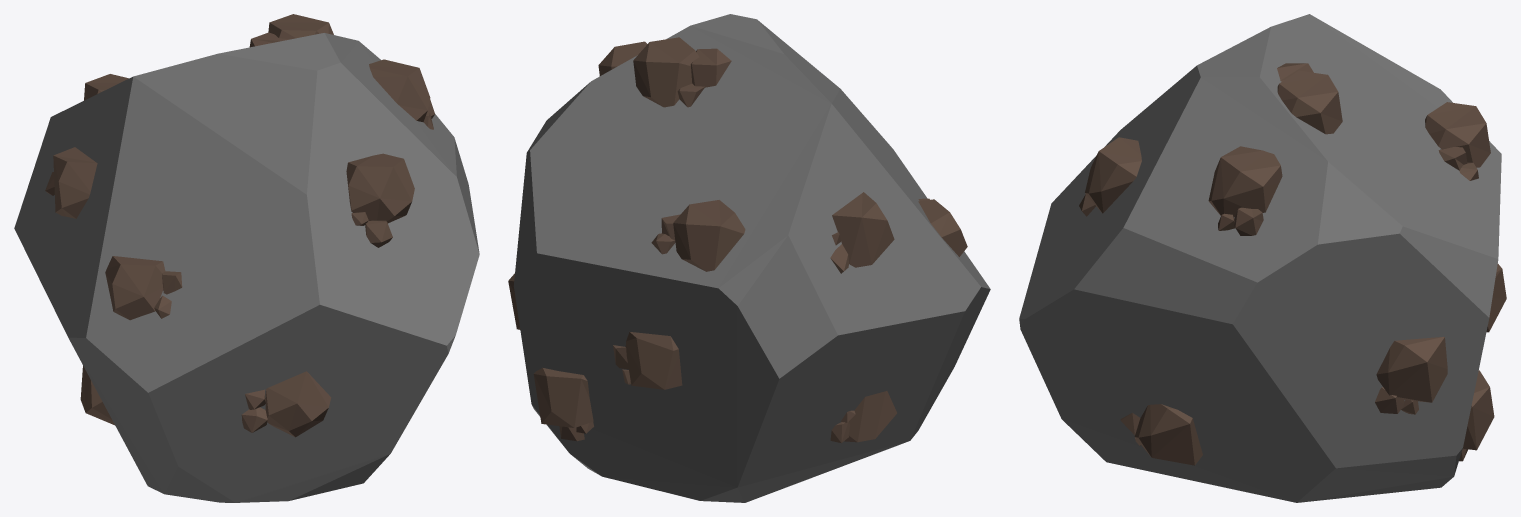
Rendered from SM_Ore_001_LOD1.fbx.
The picture shows the model from 3 angles, left to right: view 1: azimuth 30°, elevation 25°; view 2: azimuth 150°, elevation 25°; view 3: azimuth 270°, elevation 25°; orthographic projection. The views are drawn at different scales.
Visible parts, largest first — view 1: Cube.001, Cube; view 2: Cube.001, Cube; view 3: Cube.001, Cube.
Boxes of the visible parts, x1=… form: Cube.001: x1=14, y1=33, x2=479, y2=502; Cube: x1=45, y1=14, x2=434, y2=437; Cube.001: x1=513, y1=14, x2=990, y2=502; Cube: x1=508, y1=37, x2=967, y2=443; Cube.001: x1=1019, y1=14, x2=1501, y2=502; Cube: x1=1079, y1=63, x2=1506, y2=465.
Bounding box in the file's own units: 114 × 106 × 116.
